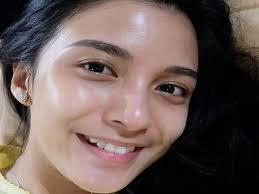Oily-Skin: (122, 107, 152, 129), (48, 80, 77, 102), (127, 10, 152, 33), (130, 77, 154, 94)
